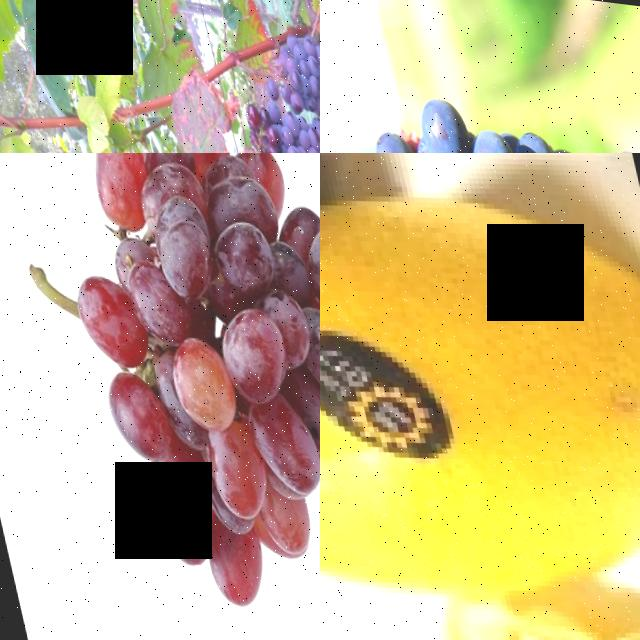grapes: (0, 153, 320, 640), (345, 55, 640, 153), (268, 10, 320, 108), (233, 96, 320, 153)
lemon: (320, 153, 640, 639)
